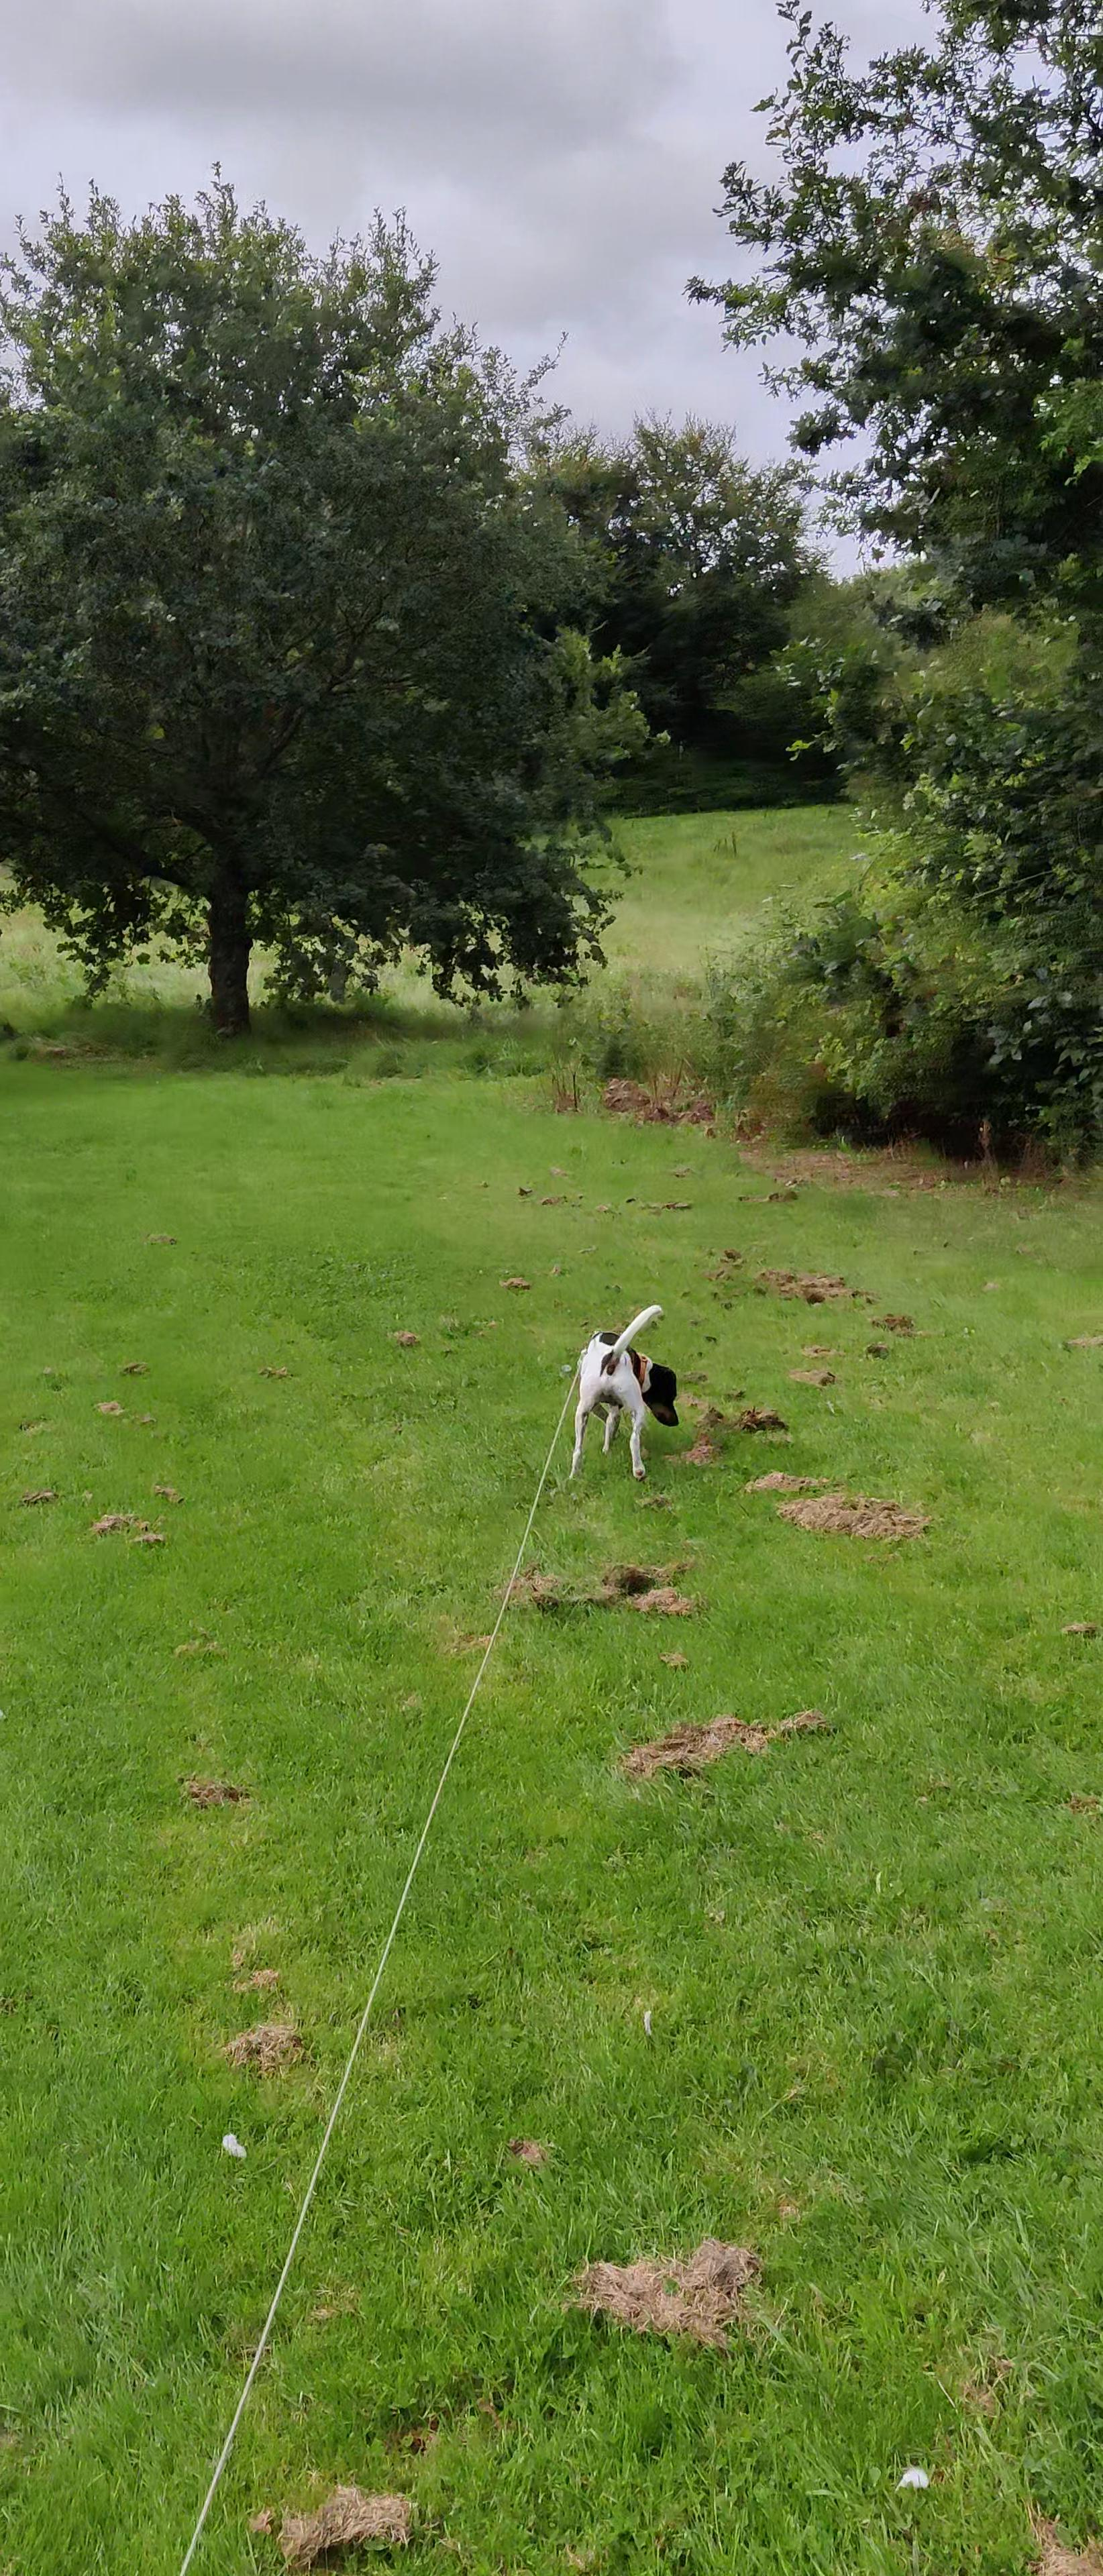Dog: (567, 1301, 681, 1483)
